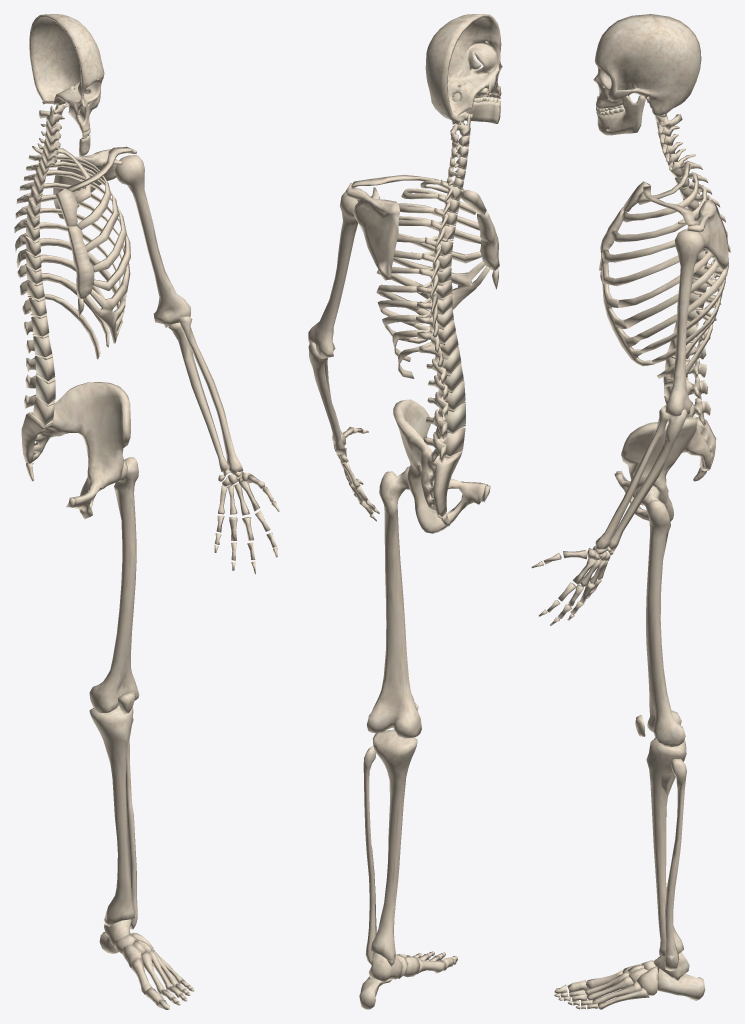
The model's file is HalfSkeleton.FBX.
3 views of the same model, side by side, from view 1: azimuth 30°, elevation 25°; view 2: azimuth 150°, elevation 25°; view 3: azimuth 270°, elevation 25° (orthographic). The views are drawn at different scales.
Parts seen in each view (by area): view 1: MaleSkeletalHipLeftandSacrumGeo, HalfSkull, MaleSkeletalFemurLeftGeo, MaleSkeletalTibiaLeftGeo, MaleSkeletalHumerusLeftGeo, MaleSkeletalSternumGeo, MaleSkeletalRadiusLeftGeo, MaleSkeletalUlnaLeftGeo, MaleSkeletalFibulaLeftGeo, MaleSkeletalScapulaLeftGeo, MaleSkeletalCostalCartilagesGeo, MaleSkeletalRibs04Geo (+4 smaller); view 2: MaleSkeletalFemurLeftGeo, HalfSkull, MaleSkeletalHipLeftandSacrumGeo, MaleSkeletalTibiaLeftGeo, MaleSkeletalScapulaLeftGeo, MaleSkeletalHumerusLeftGeo, MaleSkeletalFibulaLeftGeo, MaleSkeletalSternumGeo, MaleSkeletalCostalCartilagesGeo, MaleSkeletalUlnaLeftGeo, MaleSkeletalL05Geo, MaleSkeletalIntervertabralDiscsGeo (+18 smaller); view 3: HalfSkull, MaleSkeletalFemurLeftGeo, MaleSkeletalHipLeftandSacrumGeo, MaleSkeletalTibiaLeftGeo, MaleSkeletalHumerusLeftGeo, MaleSkeletalFibulaLeftGeo, MaleSkeletalUlnaLeftGeo, MaleSkeletalScapulaLeftGeo, MaleSkeletalRadiusLeftGeo, HalfJaw, MaleSkeletalCostalCartilagesGeo, MaleSkeletalCalcaneusLeftFootGeo (+11 smaller).
Boxes of the visible parts, x1,y1,x2,y2 form: MaleSkeletalHipLeftandSacrumGeo: (21,382,130,518); HalfSkull: (29,14,104,133); MaleSkeletalFemurLeftGeo: (89,457,139,713); MaleSkeletalTibiaLeftGeo: (89,705,134,926); MaleSkeletalHumerusLeftGeo: (115,155,190,327); MaleSkeletalSternumGeo: (55,188,94,316); MaleSkeletalRadiusLeftGeo: (179,316,243,472); MaleSkeletalUlnaLeftGeo: (168,322,228,472); MaleSkeletalFibulaLeftGeo: (126,717,137,929); MaleSkeletalScapulaLeftGeo: (53,149,136,219); MaleSkeletalCostalCartilagesGeo: (85,284,126,343); MaleSkeletalRibs04Geo: (46,169,126,272); MaleSkeletalFemurLeftGeo: (367,466,421,738); HalfSkull: (425,14,502,122); MaleSkeletalHipLeftandSacrumGeo: (393,399,490,533); MaleSkeletalTibiaLeftGeo: (370,729,417,966); MaleSkeletalScapulaLeftGeo: (345,183,399,280); MaleSkeletalHumerusLeftGeo: (308,188,370,358); MaleSkeletalFibulaLeftGeo: (363,745,376,964); MaleSkeletalSternumGeo: (461,189,499,289); MaleSkeletalCostalCartilagesGeo: (408,260,490,343); MaleSkeletalUlnaLeftGeo: (308,342,345,454); MaleSkeletalL05Geo: (423,428,465,462); MaleSkeletalIntervertabralDiscsGeo: (437,135,469,458); HalfSkull: (593,14,701,115); MaleSkeletalFemurLeftGeo: (635,485,685,747); MaleSkeletalHipLeftandSacrumGeo: (614,416,716,521); MaleSkeletalTibiaLeftGeo: (646,738,686,956); MaleSkeletalHumerusLeftGeo: (665,229,704,416); MaleSkeletalFibulaLeftGeo: (664,759,686,971); MaleSkeletalUlnaLeftGeo: (609,408,687,551); MaleSkeletalScapulaLeftGeo: (678,199,728,269); MaleSkeletalRadiusLeftGeo: (595,405,671,549); HalfJaw: (596,95,645,135); MaleSkeletalCostalCartilagesGeo: (601,272,654,366); MaleSkeletalCalcaneusLeftFootGeo: (657,968,705,1000).
Bounding box in the file's own units: 28.7 × 156 × 29.56.
